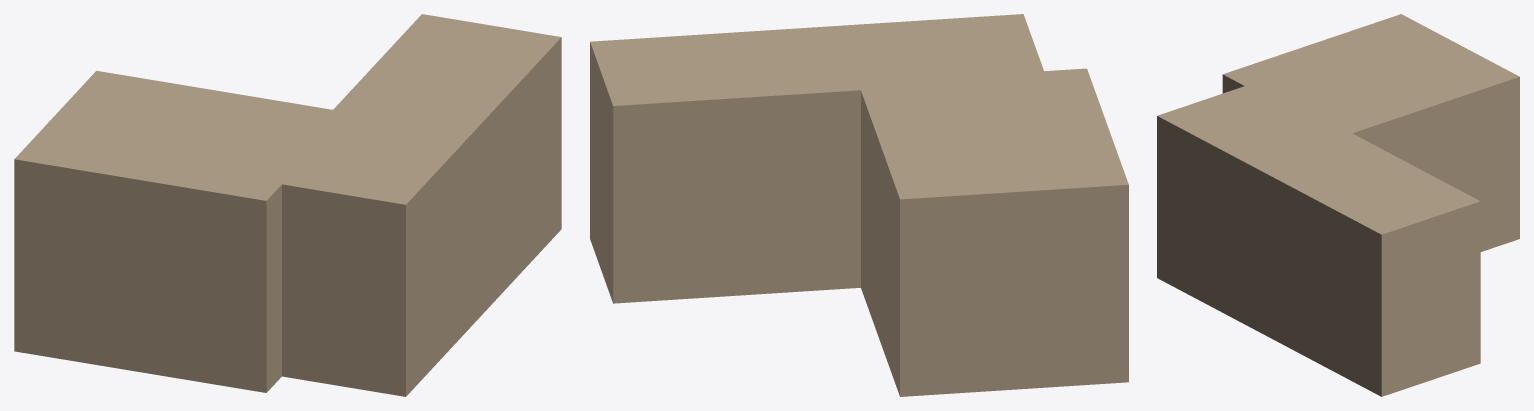
The model's file is bld_100478382.dae.
3 renders of one model, left to right at view 1: azimuth 30°, elevation 25°; view 2: azimuth 150°, elevation 25°; view 3: azimuth 270°, elevation 25°, orthographic. The views are drawn at different scales.
Parts seen in each view (by area): view 1: Maldon Ambulance Station; view 2: Maldon Ambulance Station; view 3: Maldon Ambulance Station.
Part boxes in pixels (<box>): Maldon Ambulance Station: <box>14,14,561,396</box>; Maldon Ambulance Station: <box>590,14,1128,396</box>; Maldon Ambulance Station: <box>1157,14,1519,396</box>.
Size of the model in its own units: 23.34 by 16.21 by 8.
